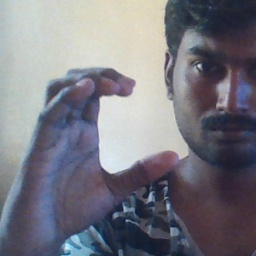C: (54, 54, 183, 201)
